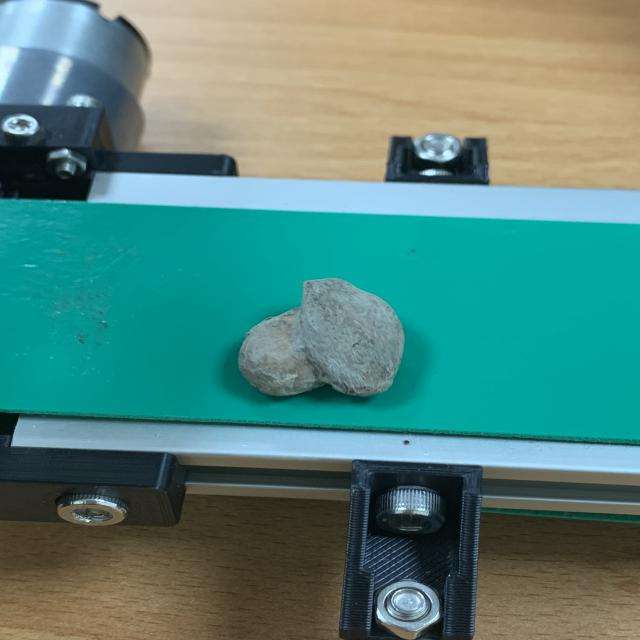Agglomerated_cocoabeans: (118, 255, 542, 434)
